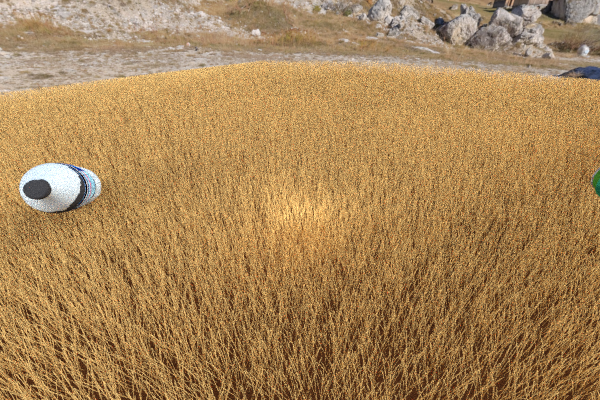Plastic Bottle: (19, 162, 101, 213), (590, 156, 600, 247)
